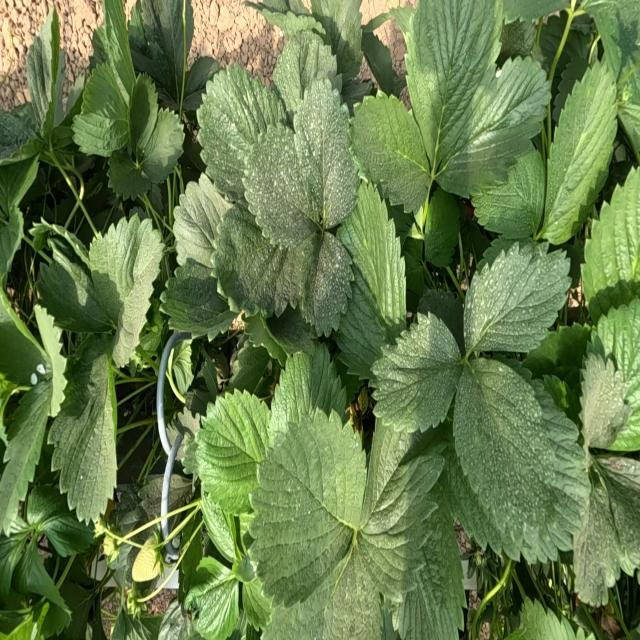Leaves: (454, 357, 589, 562), (251, 411, 366, 606), (358, 421, 449, 599), (439, 57, 549, 199), (408, 1, 503, 160), (541, 60, 618, 243), (337, 183, 406, 377), (48, 336, 116, 521), (465, 239, 570, 353), (197, 64, 283, 199), (373, 313, 463, 431), (573, 457, 640, 606), (293, 78, 358, 229), (129, 0, 219, 109), (98, 216, 163, 365), (196, 391, 270, 516), (581, 167, 640, 322), (393, 516, 466, 638), (355, 94, 430, 211), (244, 126, 316, 247), (0, 379, 51, 532), (215, 204, 285, 314), (591, 298, 640, 450), (270, 347, 342, 447), (472, 148, 545, 238), (129, 0, 187, 108), (572, 473, 619, 606), (273, 30, 336, 121), (323, 544, 383, 639), (160, 261, 233, 335), (38, 253, 107, 331), (173, 175, 230, 268), (72, 63, 129, 156), (301, 232, 351, 335), (183, 557, 239, 639), (27, 487, 93, 555), (524, 324, 590, 389), (311, 0, 362, 83), (580, 353, 625, 447), (12, 540, 69, 614), (93, 0, 135, 94), (0, 293, 43, 384), (263, 581, 329, 639), (34, 305, 67, 417), (552, 18, 591, 110), (139, 108, 183, 183), (584, 0, 639, 59), (26, 13, 52, 129), (418, 289, 464, 354), (505, 599, 577, 639), (424, 188, 459, 267), (362, 31, 403, 96), (553, 57, 587, 124), (201, 494, 235, 557), (1, 160, 38, 214), (107, 153, 150, 199), (402, 237, 428, 311), (60, 583, 94, 639), (1, 109, 36, 160), (167, 340, 194, 402), (498, 20, 536, 64), (1, 207, 23, 282), (0, 533, 27, 594), (168, 408, 200, 459), (112, 607, 161, 639), (539, 13, 566, 70), (504, 1, 568, 22), (158, 600, 189, 639), (186, 3, 194, 47), (561, 82, 570, 103)
Strawberries: (132, 541, 158, 581)
